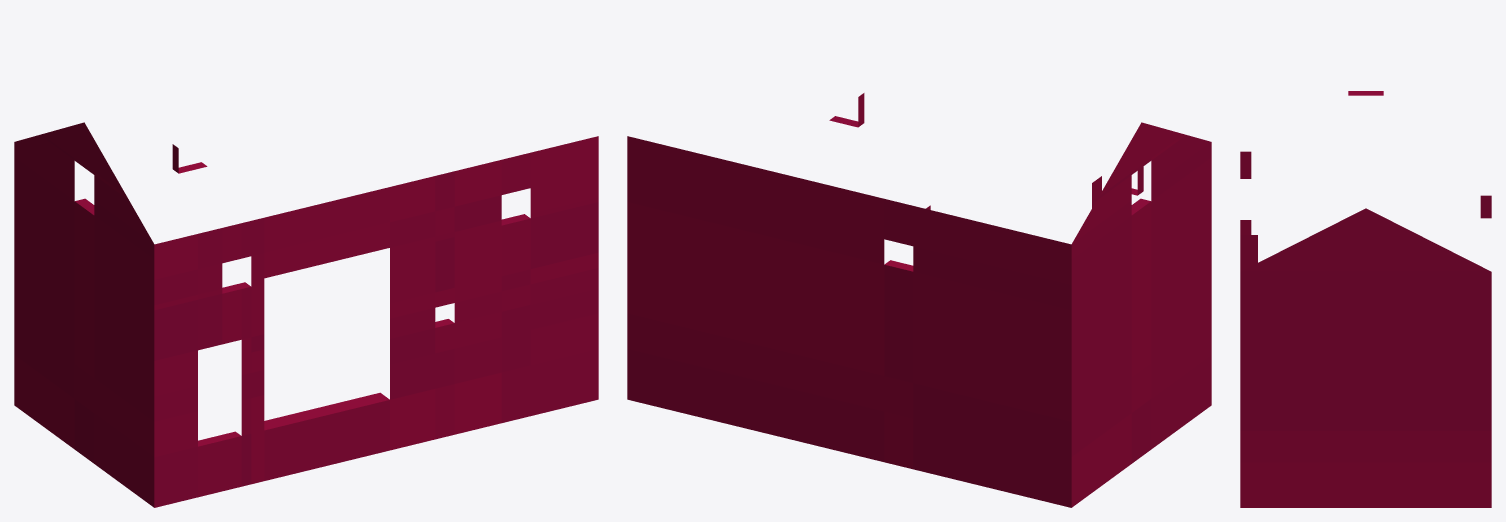
The model's file is SM_Bld_048_Masonry.glb.
The picture shows the model from 3 angles, left to right: view 1: azimuth 30°, elevation 25°; view 2: azimuth 150°, elevation 25°; view 3: azimuth 270°, elevation 25°; orthographic projection. The views are drawn at different scales.
Visible parts, largest first — view 1: SM_Bld_048_Masonry; view 2: SM_Bld_048_Masonry; view 3: SM_Bld_048_Masonry.
Boxes of the visible parts, left/top/right/bottom form: SM_Bld_048_Masonry: left=14, top=122, right=598, bottom=507; SM_Bld_048_Masonry: left=627, top=93, right=1211, bottom=507; SM_Bld_048_Masonry: left=1240, top=91, right=1491, bottom=507.
Size of the model in its own units: 9.17 by 6.6 by 5.01.
